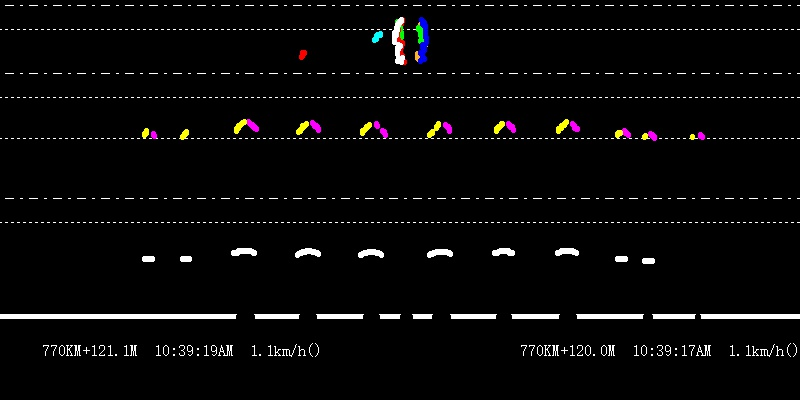J: (392, 2, 429, 69)
face_down: (369, 21, 383, 44)
y_p: (216, 110, 594, 269)
